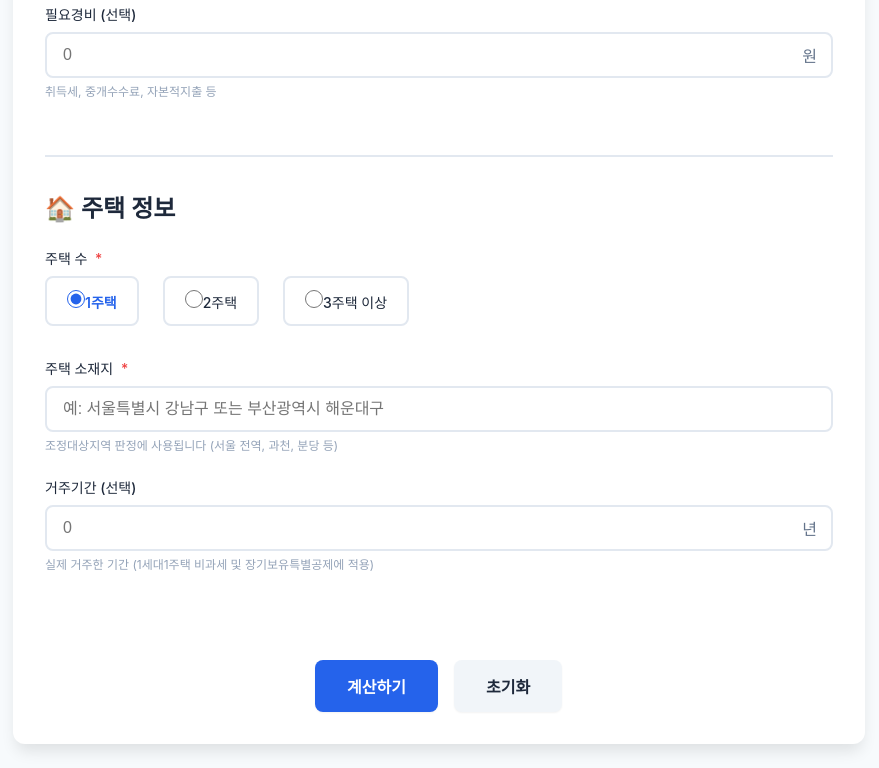
Test: Capital Gains Tax Flow Integration Tests › Form Validation Integration › Should prevent submission with missing required fields
The image size is (879, 768).
(page scrolled)
# Try to submit empty form
Click the button "계산하기".
click(377, 686)  # box [316,660,438,712]
(page scrolled)
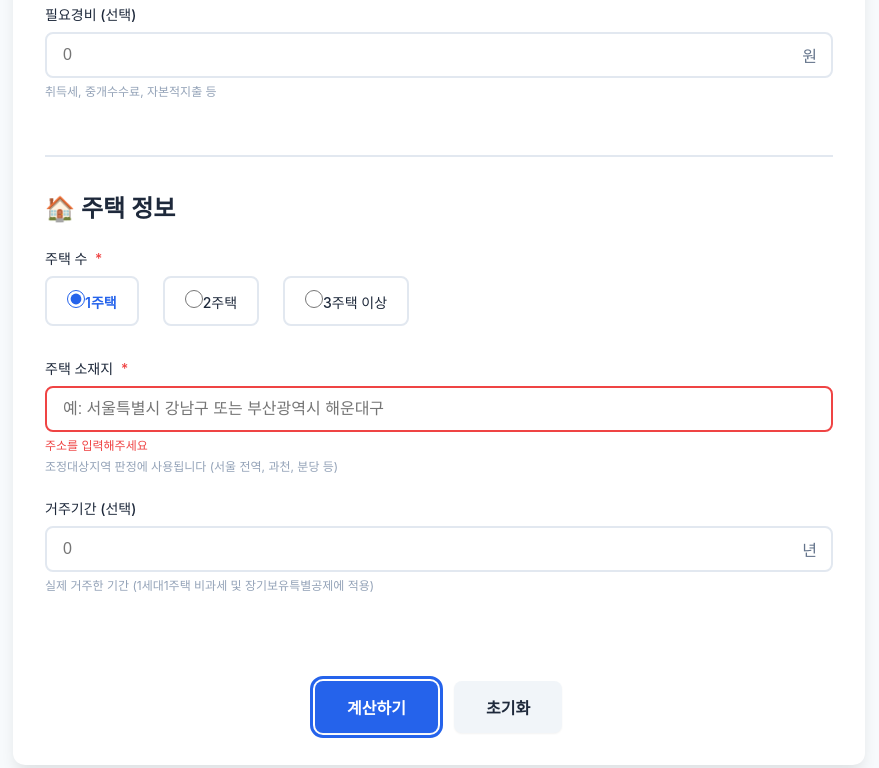
Expected: the text "주소를 입력해주세요" is shown, [45,438,148,453]
